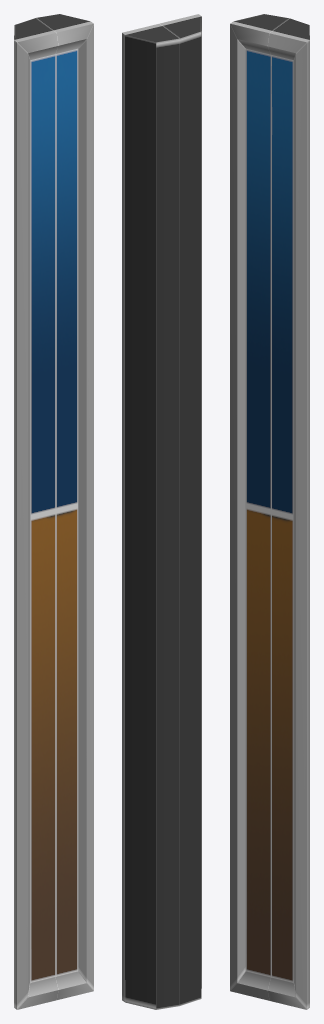
File: BaseAltitud.obj
The picture shows the model from 3 angles, left to right: view 1: azimuth 30°, elevation 25°; view 2: azimuth 210°, elevation 25°; view 3: azimuth 330°, elevation 25°; orthographic projection.
Parts seen in each view (by area): view 1: pCube1; view 2: pCube1; view 3: pCube1.
Boxes of the visible parts, box(x1,y1,x2,y2) form: pCube1: box(14, 14, 93, 1009); pCube1: box(122, 14, 201, 1009); pCube1: box(230, 14, 309, 1009).
Bounding box in the file's own units: 1 × 12.04 × 0.502.
